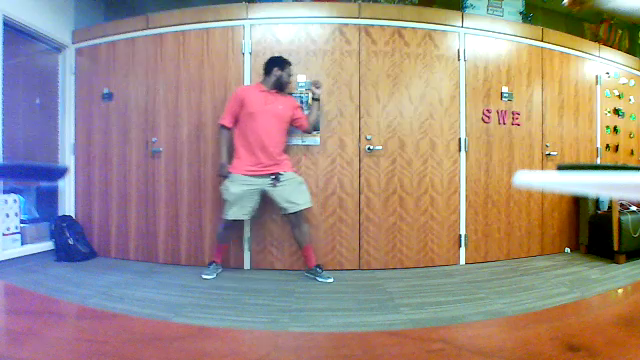up: (305, 69, 326, 97)
